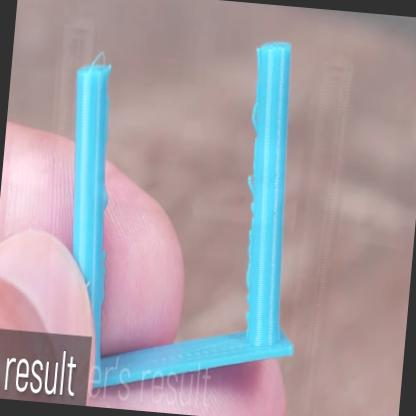fail: (251, 94, 263, 134), (243, 171, 258, 201)
